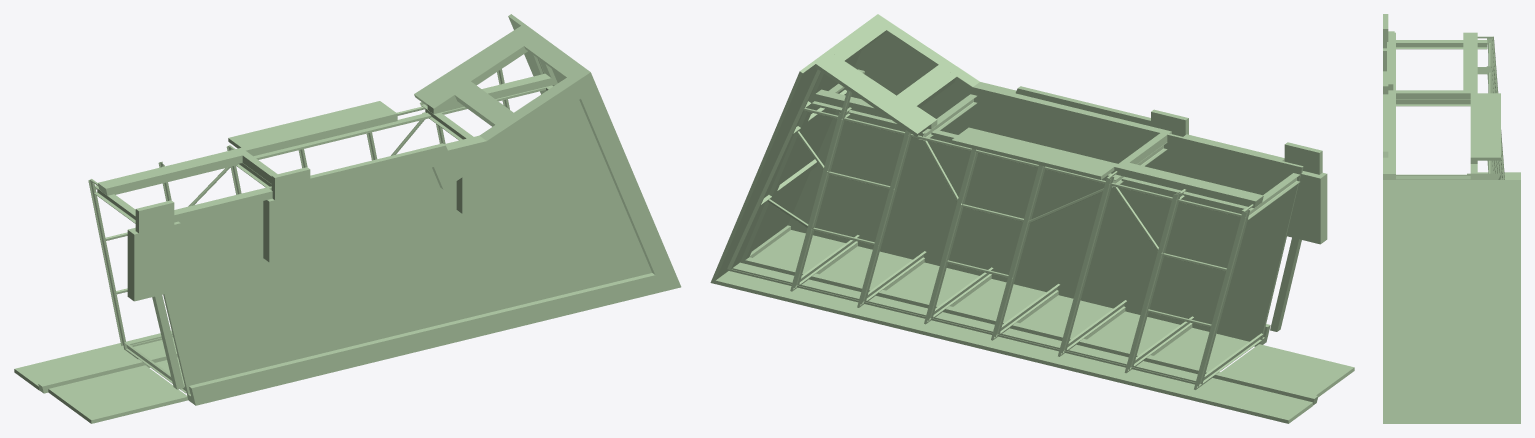
File: example.glb
3 views of the same model, side by side, from view 1: azimuth 30°, elevation 25°; view 2: azimuth 150°, elevation 25°; view 3: azimuth 270°, elevation 25° (orthographic). The views are drawn at different scales.
Size of the model in its own units: 25.3 by 9.74 by 5.92.
